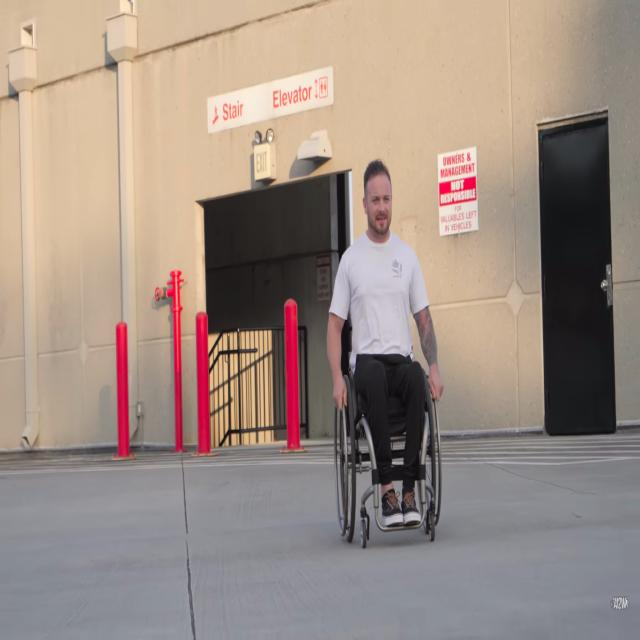wheelchairs: (326, 358, 448, 544)
